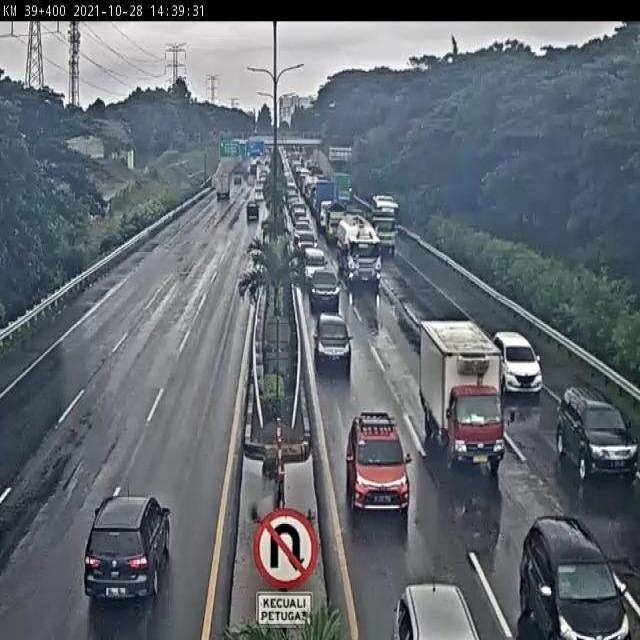big truck: (334, 216, 382, 292)
car: (509, 518, 640, 640), (71, 484, 184, 615), (547, 384, 637, 493), (372, 554, 475, 640), (344, 407, 412, 528), (490, 326, 543, 398), (312, 306, 352, 374), (305, 265, 341, 311), (241, 199, 265, 224)
small truck: (410, 309, 508, 482), (369, 207, 399, 257), (204, 168, 234, 203)
